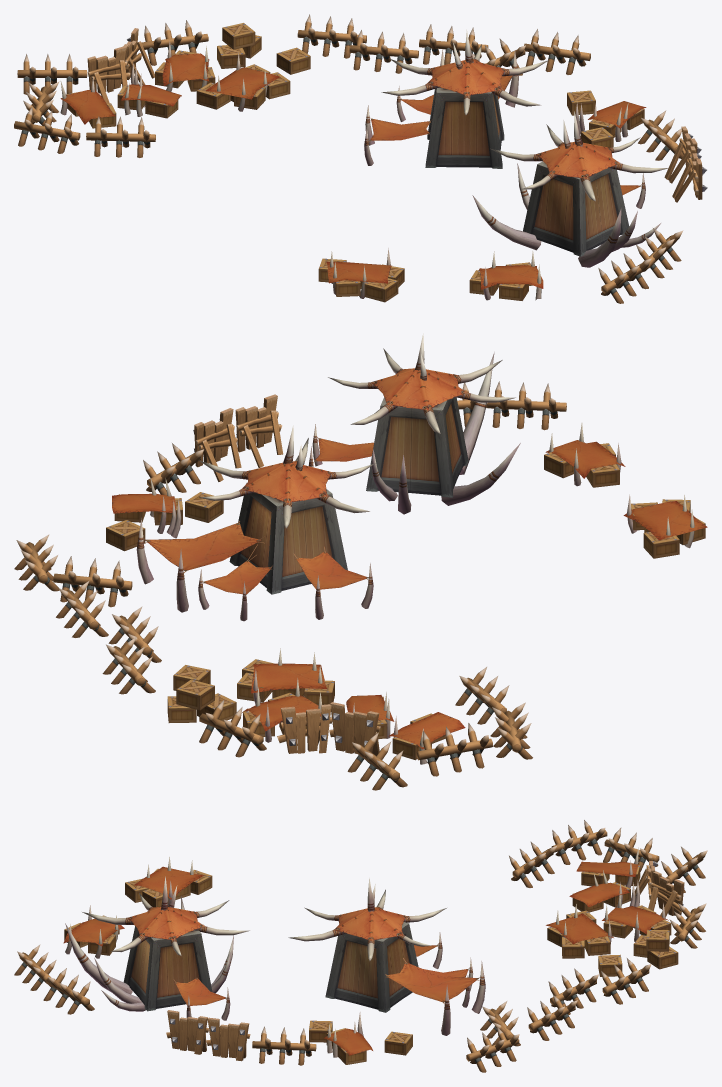
The model's file is area_03_5.FBX.
3 views of the same model, one above another, from view 1: azimuth 30°, elevation 25°; view 2: azimuth 150°, elevation 25°; view 3: azimuth 270°, elevation 25° (orthographic). The views are drawn at different scales.
Parts seen in each view (by area): view 1: area_03_5; view 2: area_03_5; view 3: area_03_5.
Boxes of the visible parts, x1,y1,x2,y2 form: area_03_5: (14, 14, 707, 303); area_03_5: (14, 333, 707, 790); area_03_5: (14, 820, 707, 1072).
Size of the model in its own units: 44.76 by 11.85 by 57.33.
